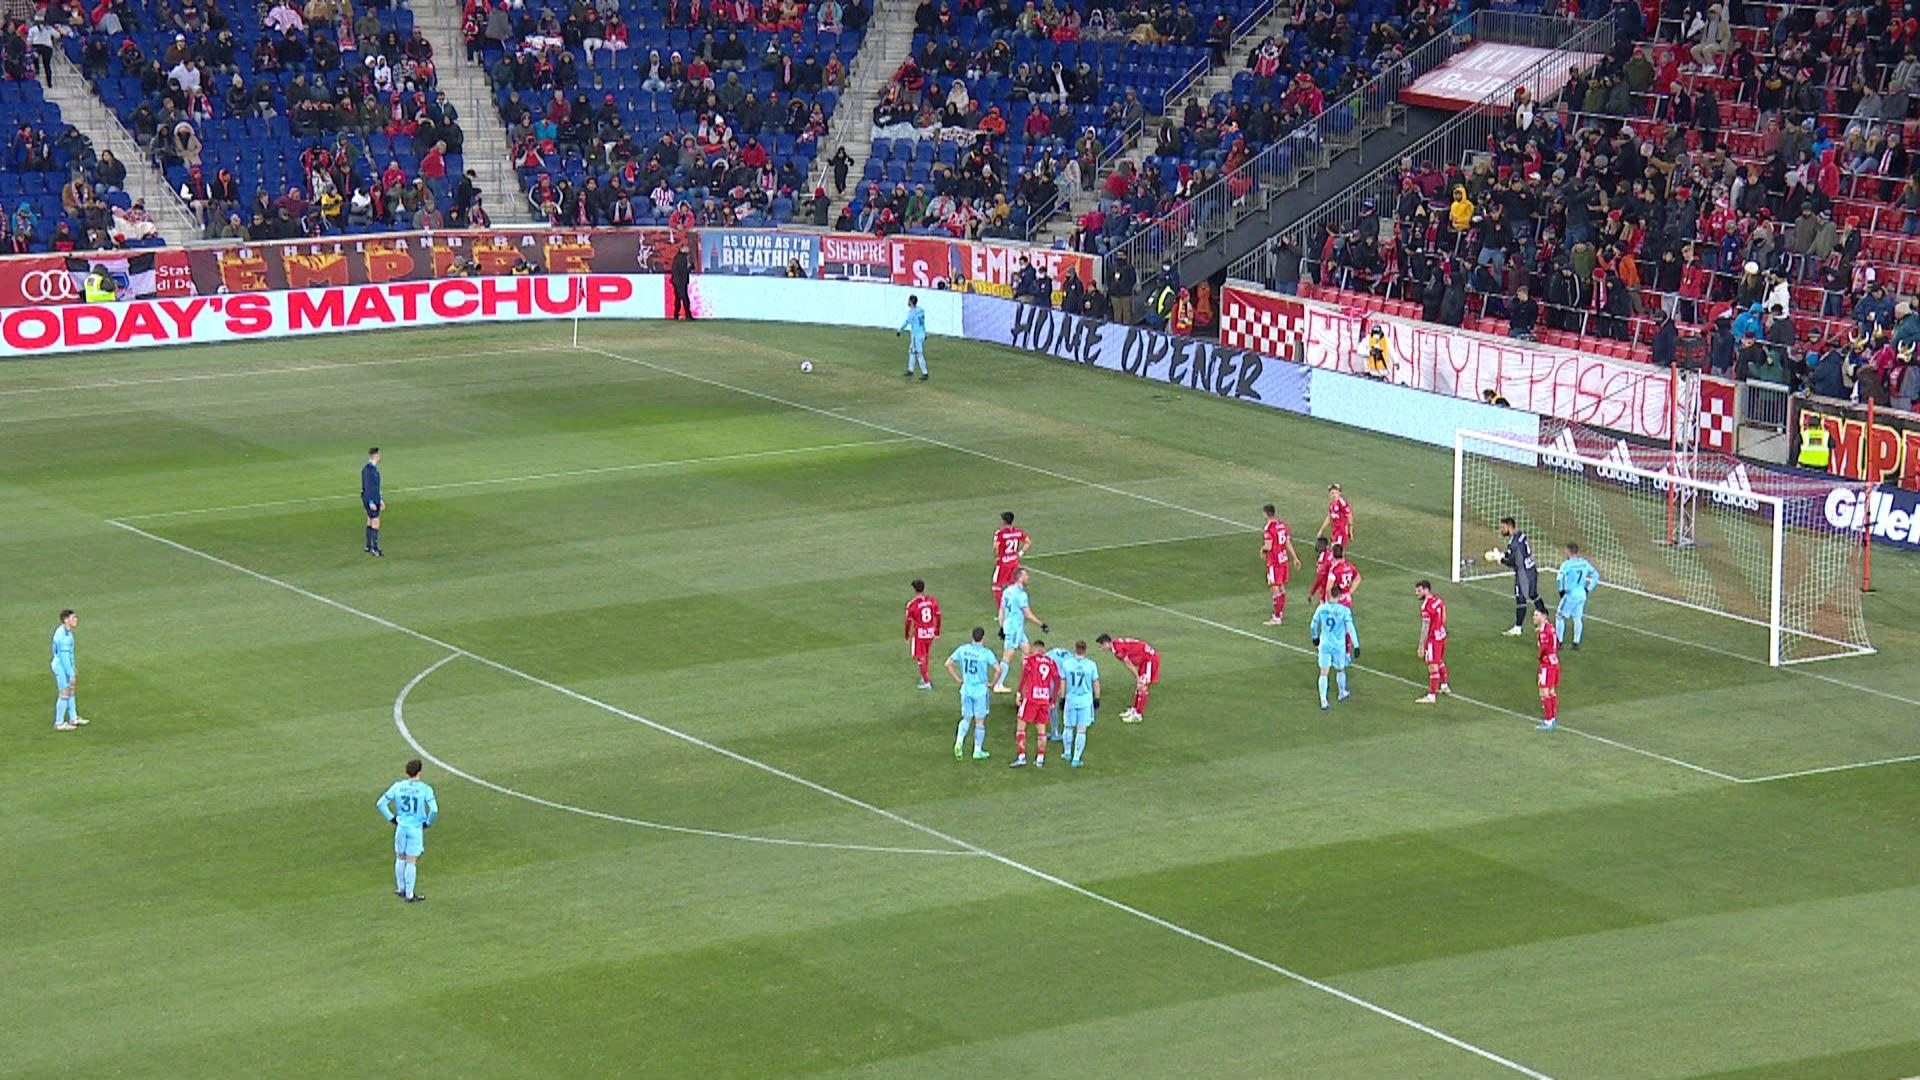football: (800, 360, 815, 375)
